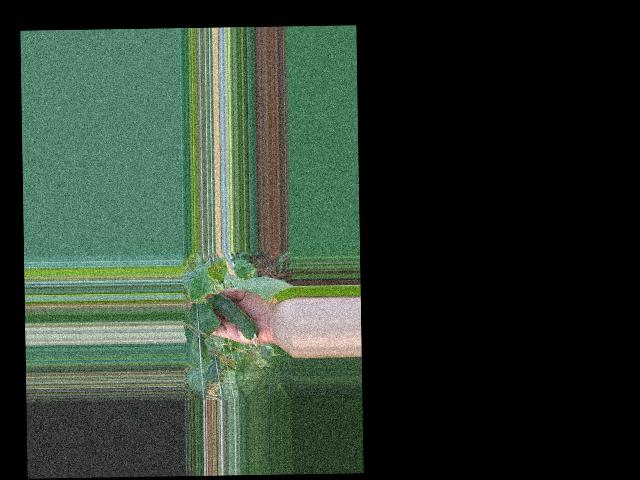cucumber: (211, 293, 259, 348)
